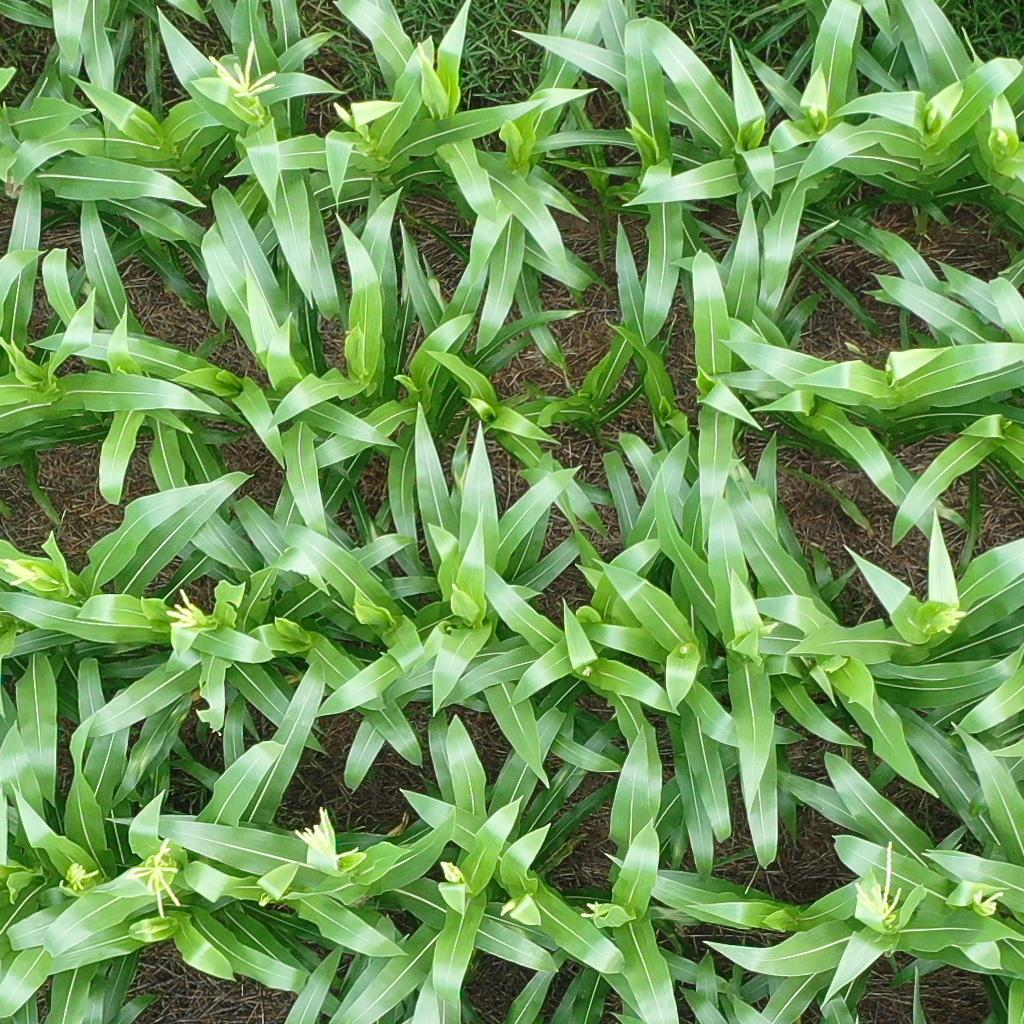Tassel: (848, 837, 908, 930), (204, 39, 280, 109), (121, 838, 184, 915), (296, 804, 342, 867), (164, 580, 209, 635), (925, 596, 970, 639), (62, 860, 100, 902), (2, 554, 47, 587), (435, 851, 470, 887), (967, 887, 1007, 917), (577, 895, 613, 925), (411, 42, 434, 71)
